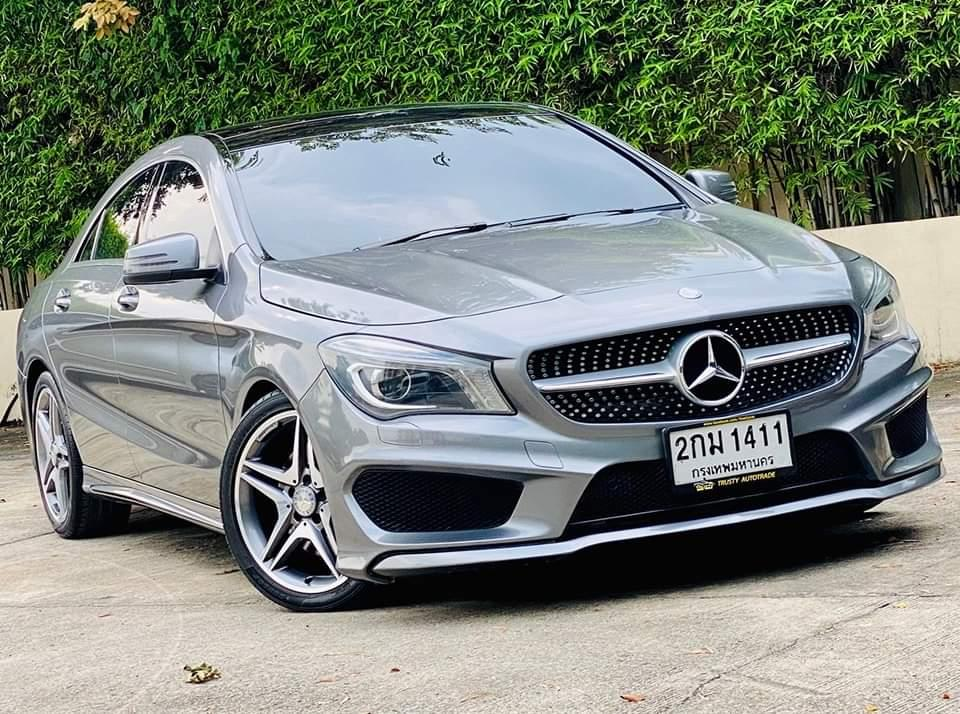license-plate: (657, 406, 797, 491)
